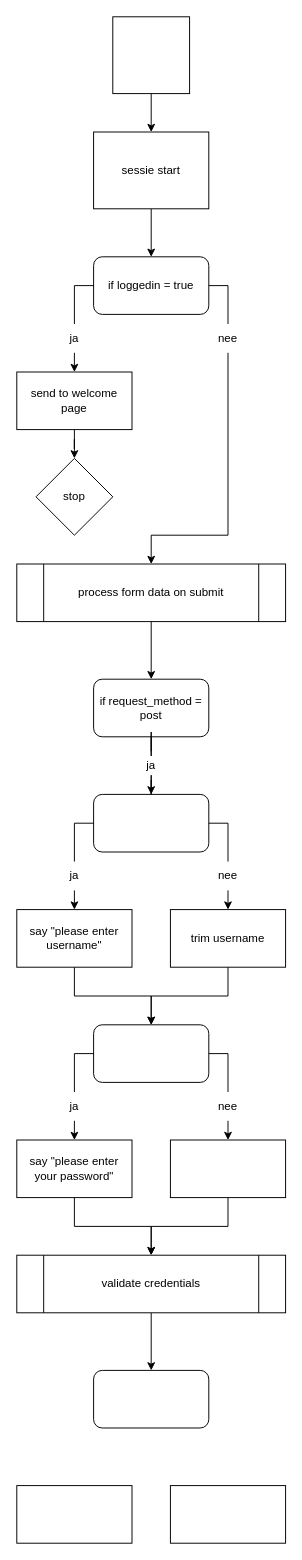
This 302x1560 diagram has some shape labels left out. Each missing label, with the centre of its shape:
"if password = empty" belongs at (151,1053).
"if username = empty" belongs at (151,822).
"if username and password =! empty" belongs at (151,1398).
"login.php" belongs at (151,55).
"trim password" belongs at (227,1168).
